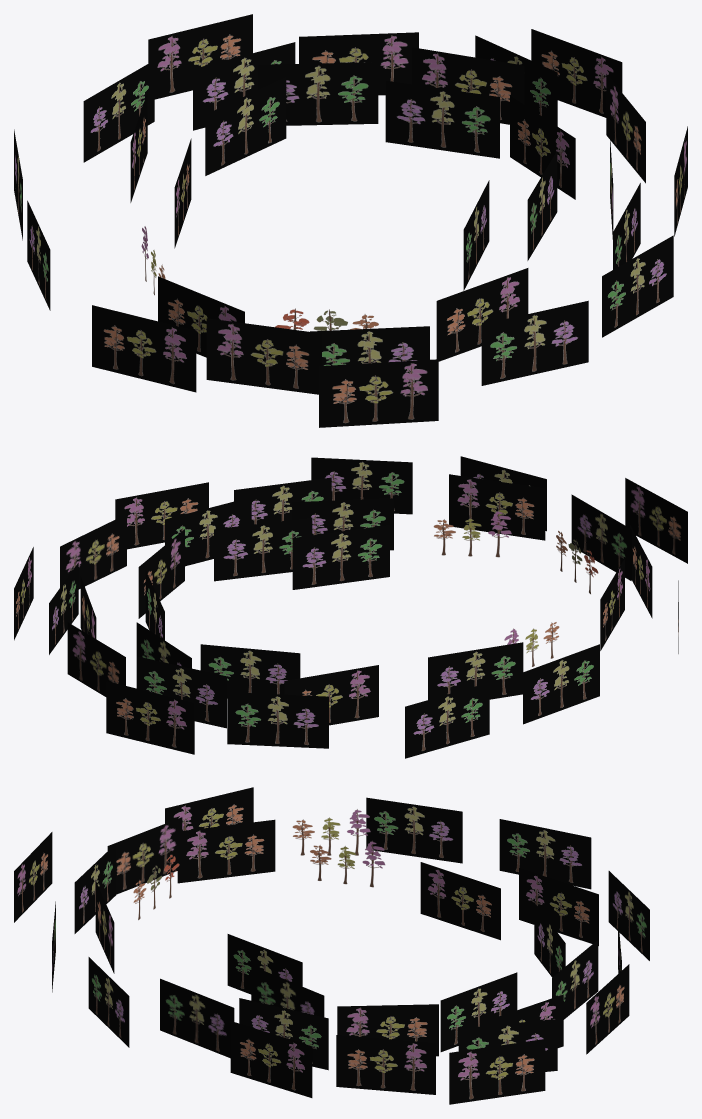
The model's file is arvorepng2.glb.
3 views of the same model, one above another, from view 1: azimuth 30°, elevation 25°; view 2: azimuth 150°, elevation 25°; view 3: azimuth 270°, elevation 25° (orthographic). The views are drawn at different scales.
Visible parts, largest first — view 1: 11111; view 2: 11111; view 3: 11111.
Part boxes in pixels (x1,y1,x2,y2): 11111: (14, 14, 687, 427); 11111: (14, 456, 687, 758); 11111: (14, 787, 649, 1104).
Bounding box in the file's own units: 942 × 102 × 1010.
Materials: 4 (4 with a texture image).
